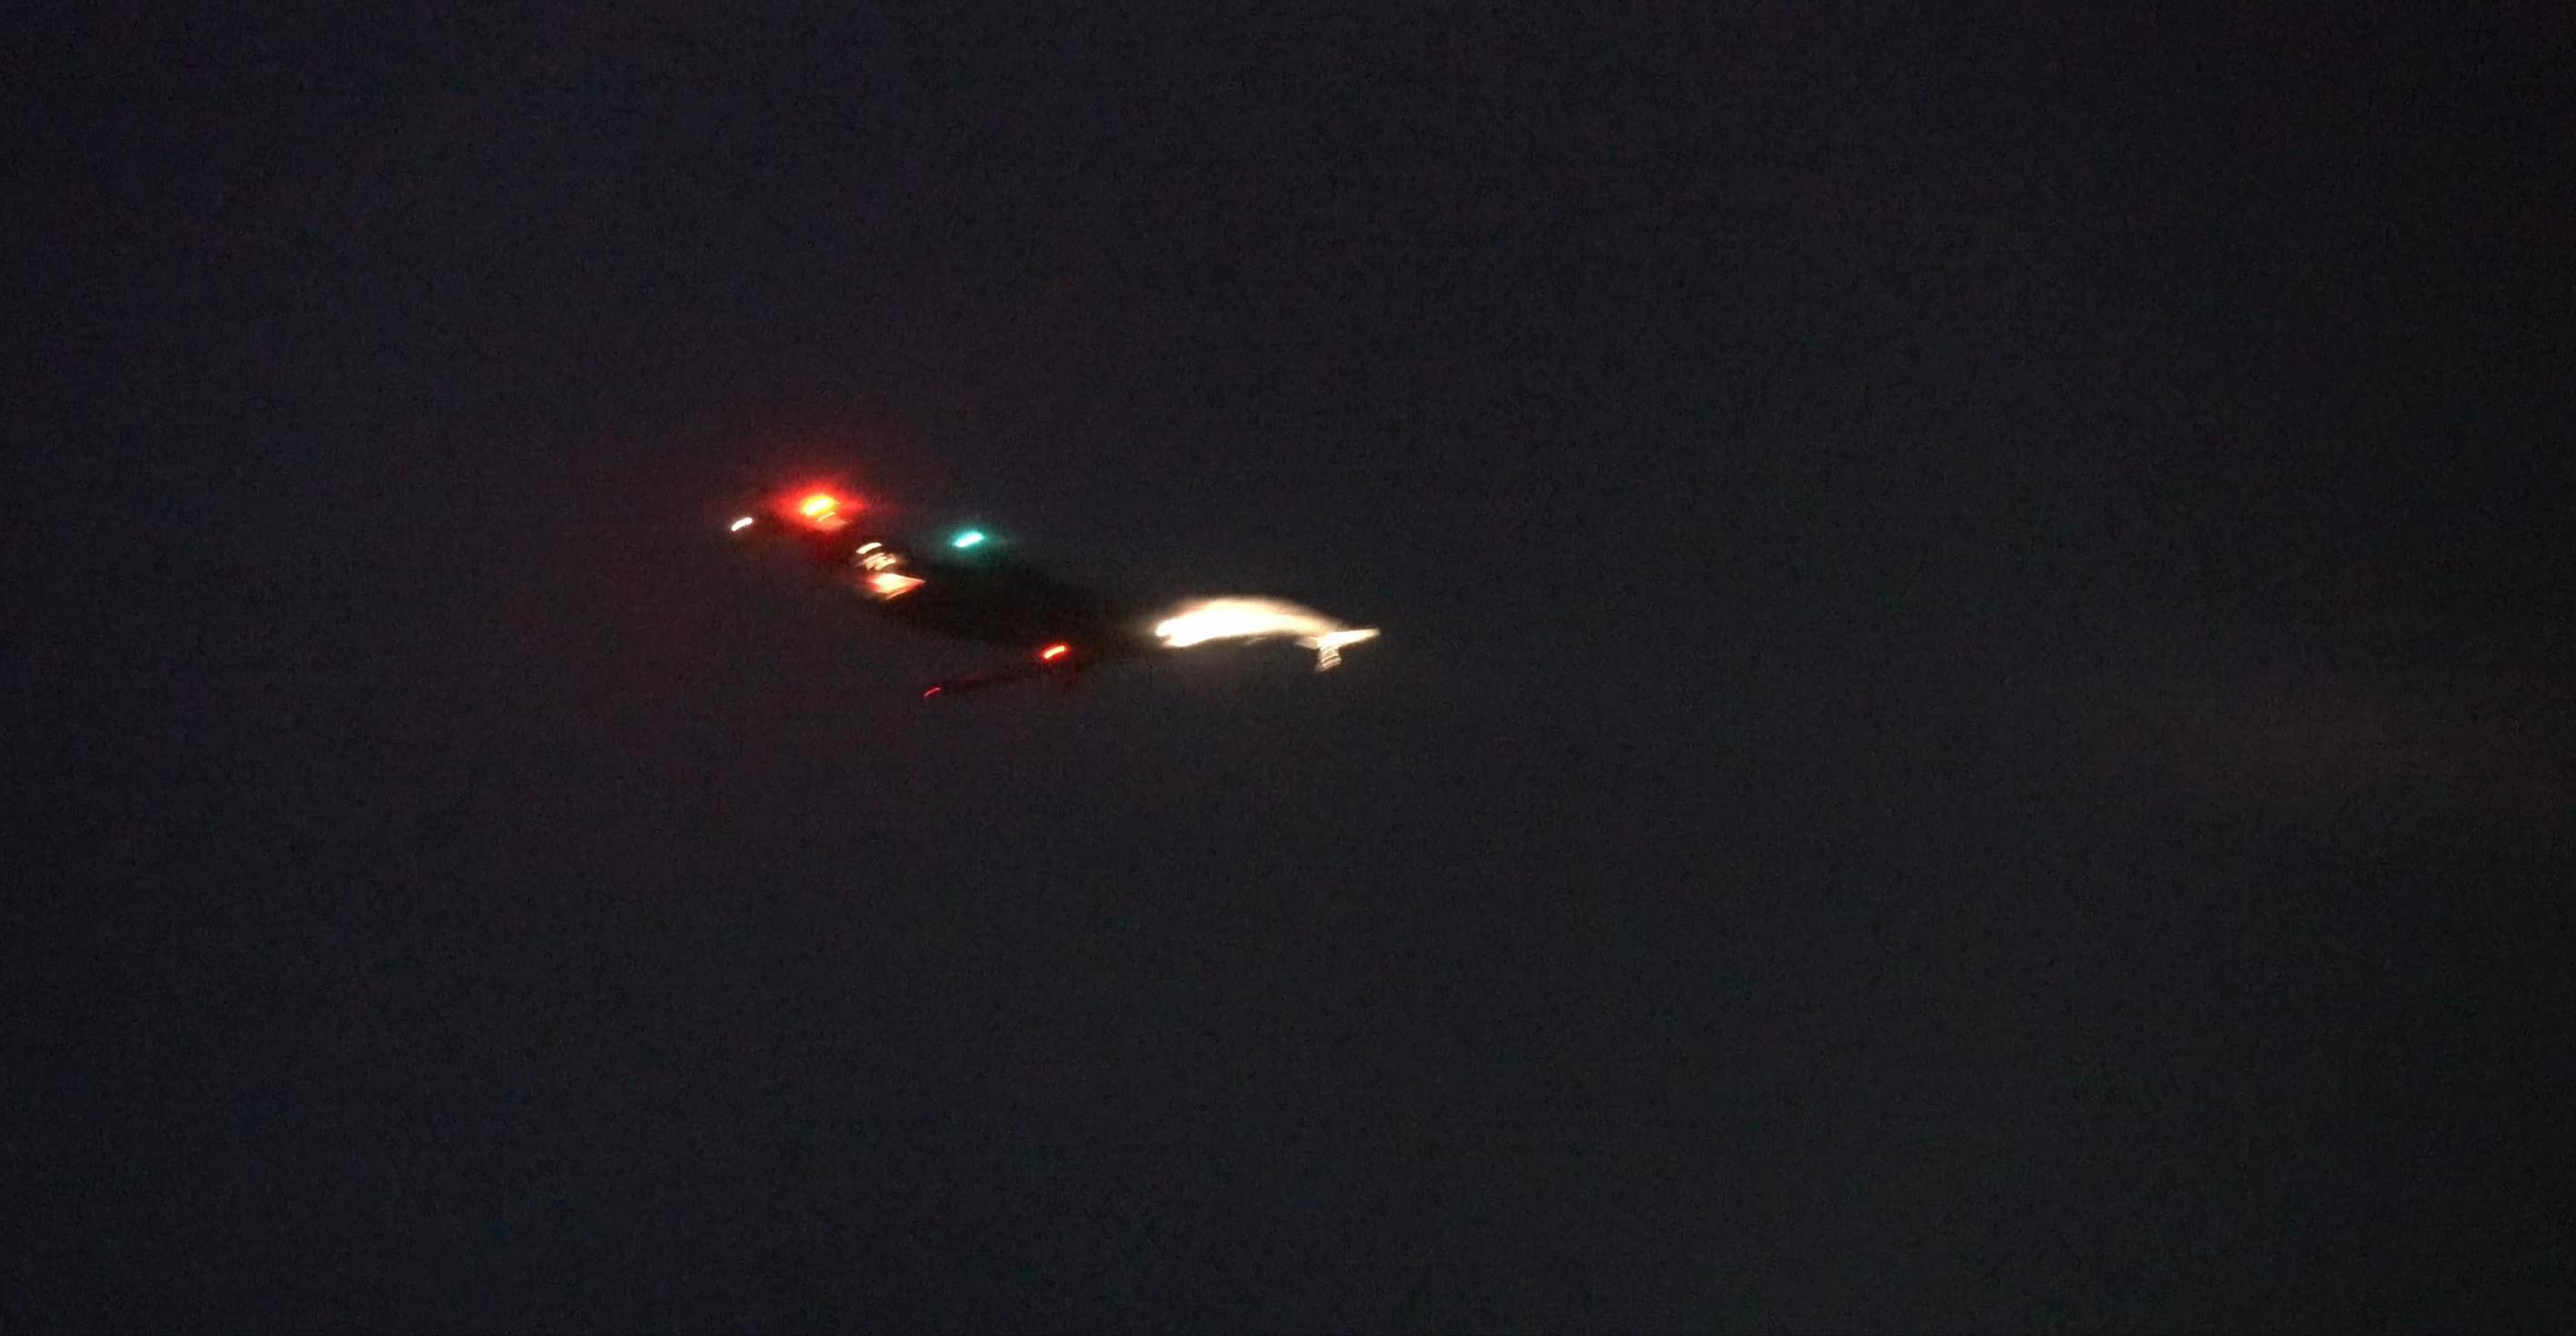Plane: (799, 508, 1312, 736)
